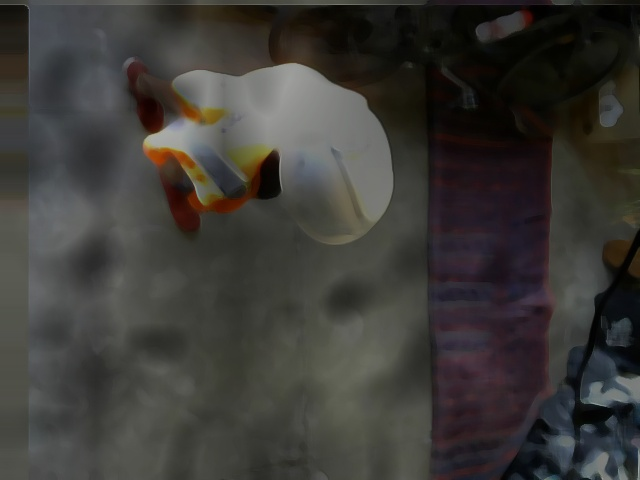three: (327, 119, 370, 155)
